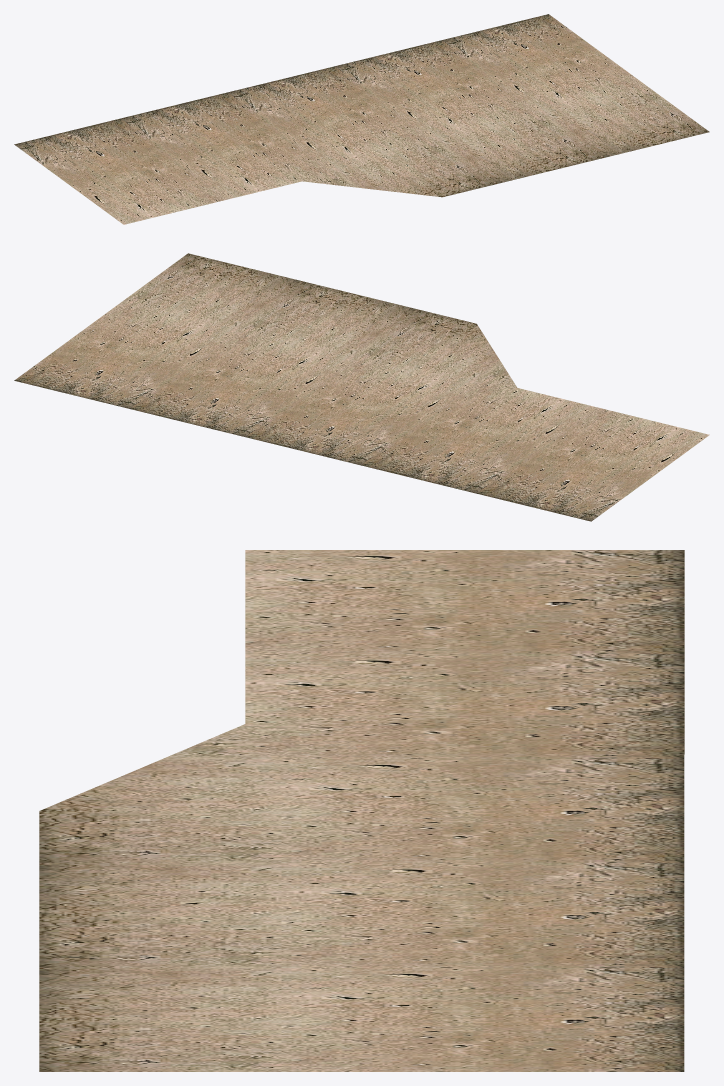
File: M11_SniperRoof01.glb
3 renders of one model, top to bottom at view 1: azimuth 30°, elevation 25°; view 2: azimuth 150°, elevation 25°; view 3: azimuth 270°, elevation 25°, orthographic. The views are drawn at different scales.
Parts seen in each view (by area): view 1: M11_SNIPERROOF01; view 2: M11_SNIPERROOF01; view 3: M11_SNIPERROOF01.
Boxes of the visible parts, x1,y1,x2,y2 form: M11_SNIPERROOF01: (14,14,709,224); M11_SNIPERROOF01: (14,253,709,521); M11_SNIPERROOF01: (39,550,684,1071).
Size of the model in its own units: 48 by 0 by 25.08.
1 material, 1 textured.
